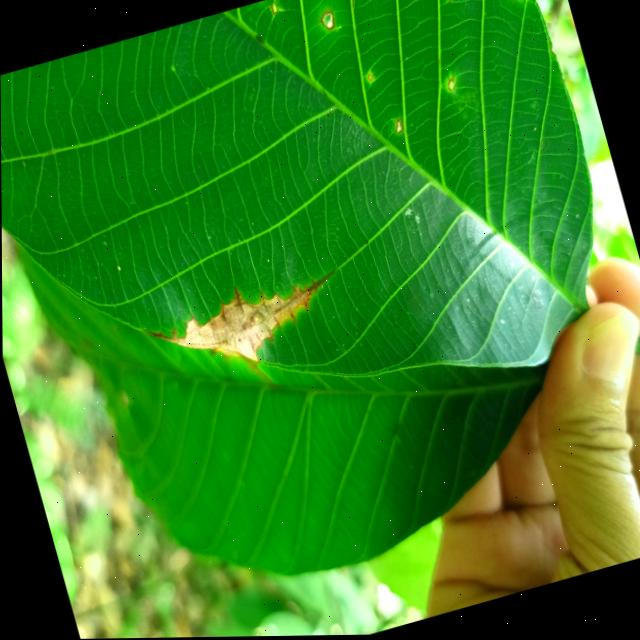Corynespora: (140, 260, 353, 390)
